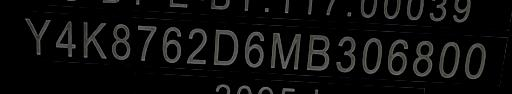letter: (76, 16, 110, 61), (268, 30, 302, 74), (208, 24, 240, 68), (20, 14, 52, 56), (304, 31, 332, 75), (52, 13, 78, 58), (240, 27, 266, 71), (460, 41, 490, 79), (133, 21, 159, 64), (183, 24, 209, 67), (358, 35, 384, 77), (110, 18, 134, 63), (158, 24, 184, 65), (332, 35, 358, 75), (385, 37, 411, 77), (411, 39, 437, 77), (438, 38, 460, 78)
